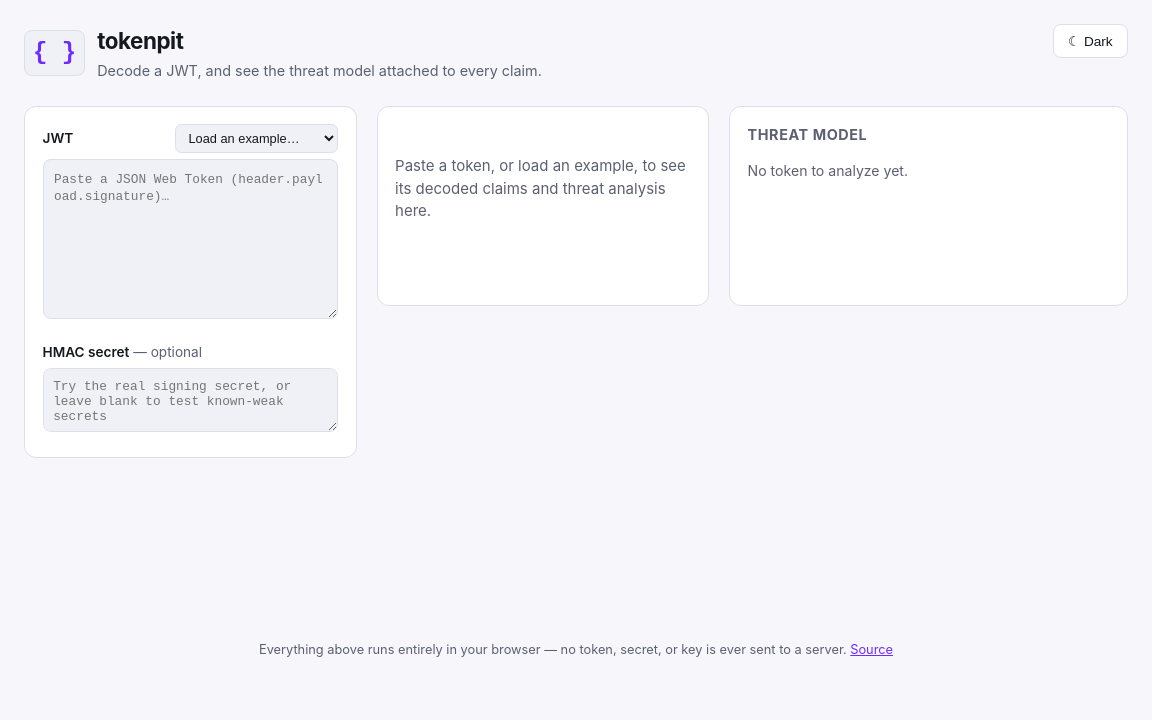
Test case: App › loading the weak-secret example eventually reports the cracked secret
Select "HS256 signed with a weak secret" in the dropdown named "load an example" at (257, 138), box [176, 124, 338, 153]
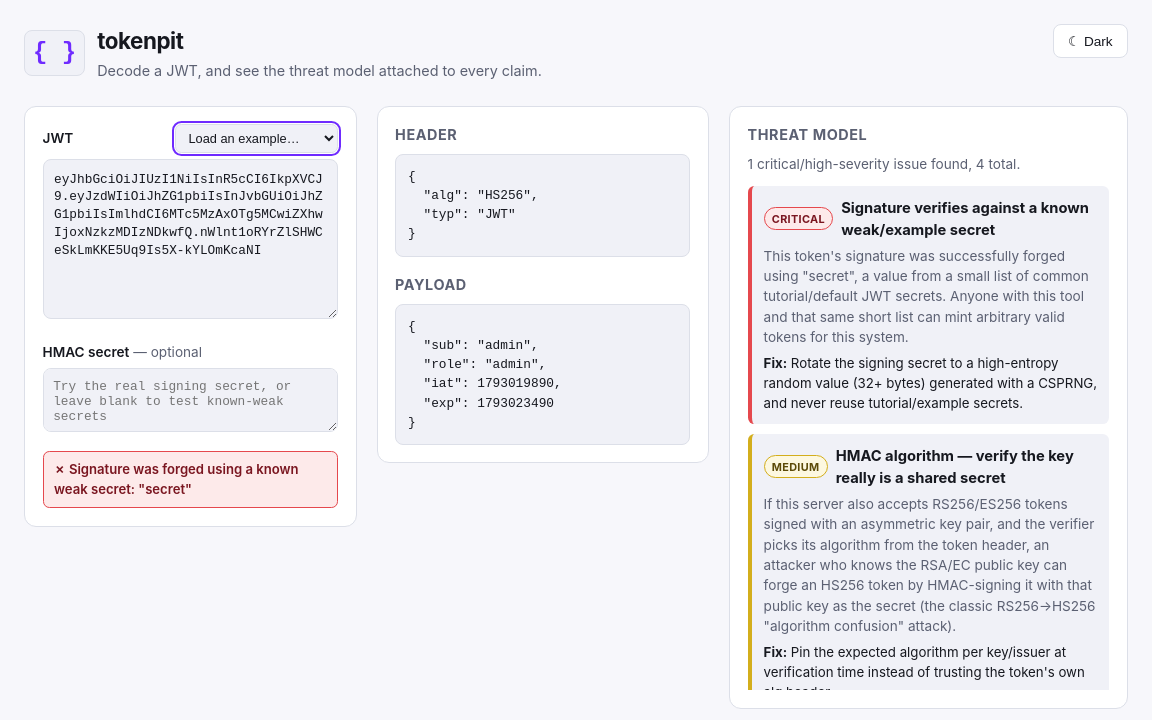
Expected: the text "✗ Signature was forged using a known weak secret: \"secret\"" is shown, [43, 451, 338, 508]
Expected: the list item with test id "finding-hmac-secret-weak" is shown, [748, 186, 1109, 424]
